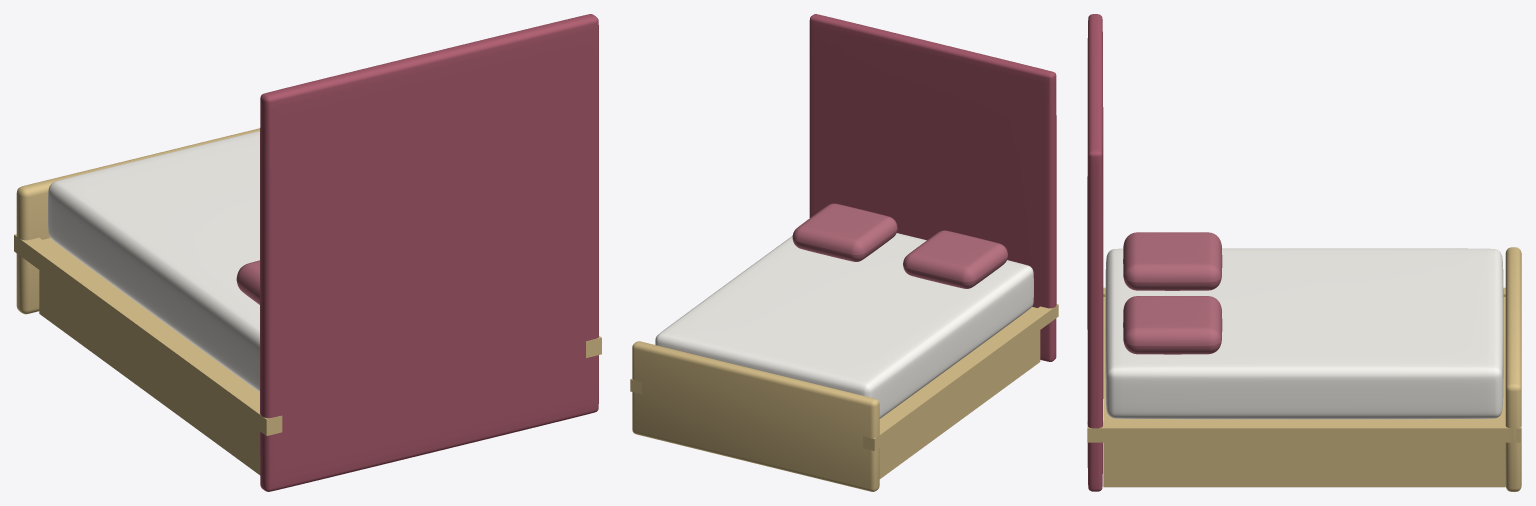
3 views of the same model, side by side, from view 1: azimuth 30°, elevation 25°; view 2: azimuth 150°, elevation 25°; view 3: azimuth 270°, elevation 25° (orthographic). The views are drawn at different scales.
Parts seen in each view (by area): view 1: Headboard, Mattress, BedFrame, Footboard, Pillow; view 2: Headboard, Mattress, Footboard, BedFrame, Pillow.001, Pillow; view 3: Mattress, BedFrame, Headboard, Pillow, Pillow.001, Footboard.
Boxes of the visible parts, x1=… form: Headboard: x1=260, y1=14, x2=598, y2=491; Mattress: x1=48, y1=131, x2=259, y2=391; BedFrame: x1=14, y1=234, x2=601, y2=475; Footboard: x1=16, y1=128, x2=259, y2=314; Pillow: x1=236, y1=260, x2=259, y2=304; Headboard: x1=809, y1=14, x2=1056, y2=361; Mattress: x1=655, y1=233, x2=1033, y2=418; Footboard: x1=632, y1=341, x2=879, y2=491; BedFrame: x1=630, y1=304, x2=1058, y2=478; Pillow.001: x1=792, y1=203, x2=897, y2=261; Pillow: x1=903, y1=230, x2=1007, y2=288; Mattress: x1=1105, y1=248, x2=1503, y2=419; BedFrame: x1=1087, y1=287, x2=1521, y2=487; Headboard: x1=1087, y1=14, x2=1103, y2=491; Pillow: x1=1123, y1=232, x2=1222, y2=290; Pillow.001: x1=1123, y1=296, x2=1222, y2=354; Footboard: x1=1505, y1=247, x2=1521, y2=491.
Bounding box in the file's own units: 1.68 × 1.9 × 2.19.
